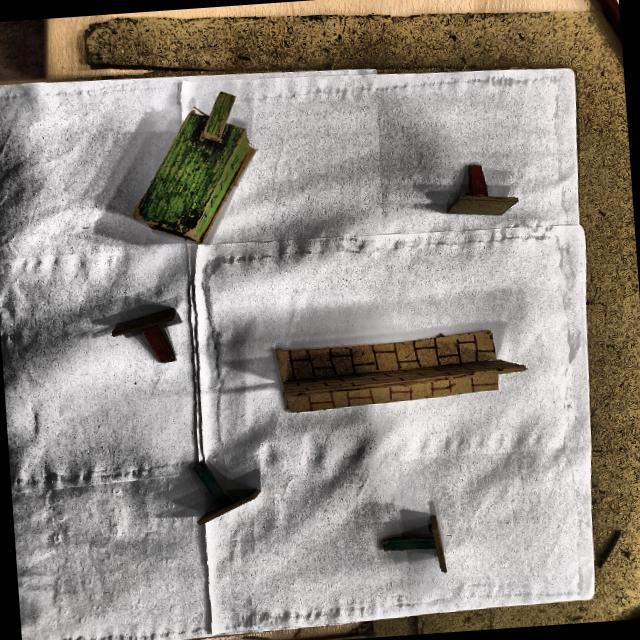Dead soldier -enemy-: (107, 308, 190, 366), (443, 159, 520, 219)
Dead soldier -frd-: (190, 460, 265, 536), (375, 513, 451, 576)
Tank: (129, 93, 254, 245)
Wall: (276, 329, 524, 414)
